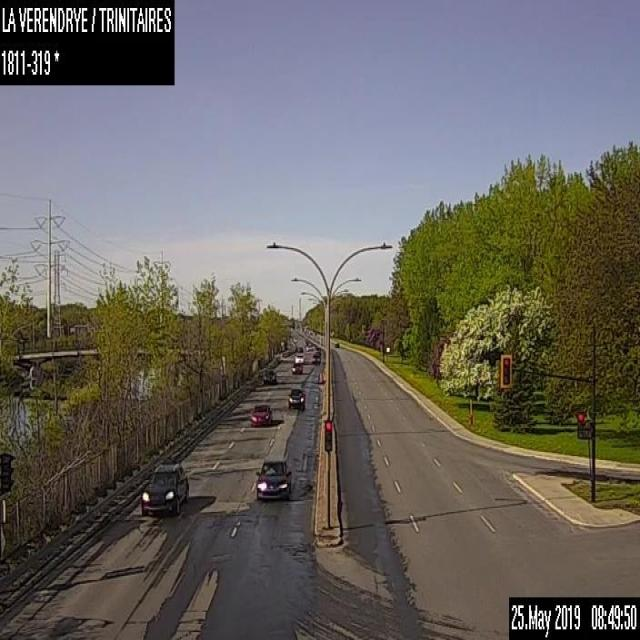vehicle: (140, 462, 188, 514), (254, 458, 291, 498), (250, 403, 272, 424), (287, 387, 305, 408), (262, 367, 276, 384), (290, 362, 303, 373), (294, 354, 305, 361), (311, 352, 319, 361), (305, 342, 314, 350), (296, 344, 303, 352), (334, 340, 339, 347)
